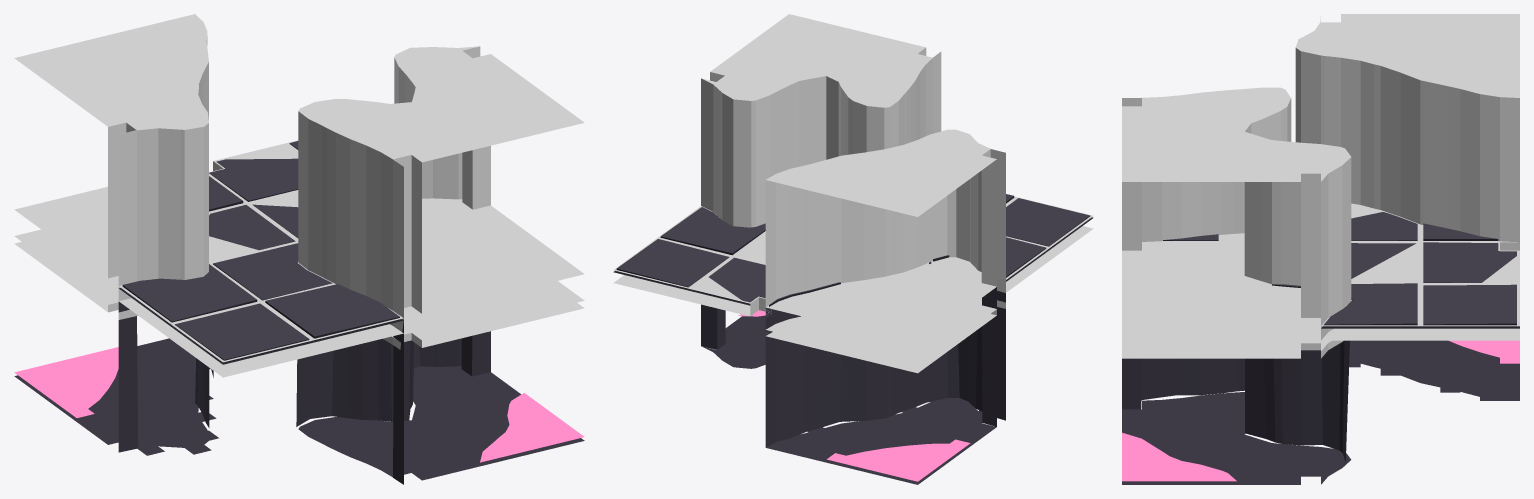
The model's file is Tile_LFLF.fbx.
3 renders of one model, left to right at view 1: azimuth 30°, elevation 25°; view 2: azimuth 150°, elevation 25°; view 3: azimuth 270°, elevation 25°, orthographic. The views are drawn at different scales.
Visible parts, largest first — view 1: Tile_LFLF_ColCrackBlocker, Tile_LFLF, Tile_LFLF_ColCrackSurface, Tile_LFLF_ColGround; view 2: Tile_LFLF_ColCrackBlocker, Tile_LFLF, Tile_LFLF_ColCrackSurface, Tile_LFLF_ColGround; view 3: Tile_LFLF_ColCrackBlocker, Tile_LFLF, Tile_LFLF_ColGround, Tile_LFLF_ColCrackSurface.
Part boxes in pixels (<box>): Tile_LFLF_ColCrackBlocker: <box>14,14,584,317</box>; Tile_LFLF: <box>14,141,584,484</box>; Tile_LFLF_ColCrackSurface: <box>14,229,584,349</box>; Tile_LFLF_ColGround: <box>118,140,403,377</box>; Tile_LFLF_ColCrackBlocker: <box>701,14,1005,344</box>; Tile_LFLF: <box>613,194,1093,484</box>; Tile_LFLF_ColCrackSurface: <box>766,298,1005,373</box>; Tile_LFLF_ColGround: <box>613,196,1093,316</box>; Tile_LFLF_ColCrackBlocker: <box>1122,14,1519,326</box>; Tile_LFLF: <box>1122,212,1519,484</box>; Tile_LFLF_ColGround: <box>1321,203,1519,340</box>; Tile_LFLF_ColCrackSurface: <box>1122,318,1343,358</box>.
Bounding box in the file's own units: 5 × 4.2 × 5.
